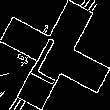L_NE: (29, 25, 81, 85)
